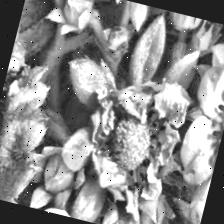Blossom Blight: (84, 86, 176, 196), (198, 74, 224, 177)
